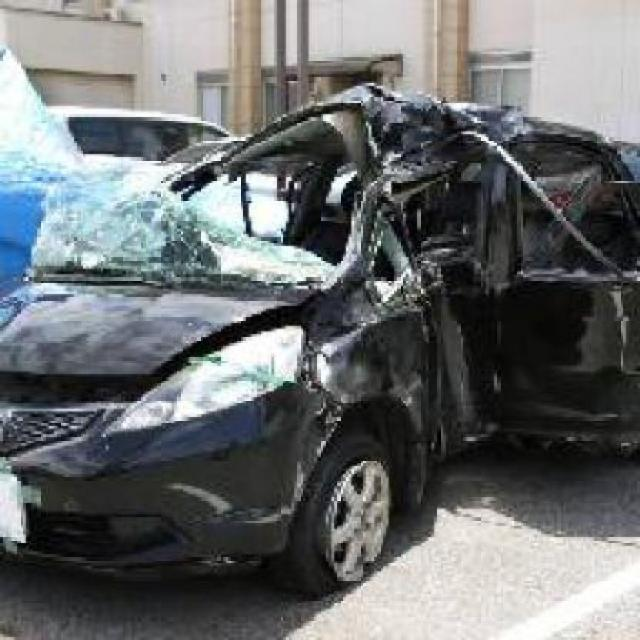damaged-windscreen: (51, 150, 370, 290)
